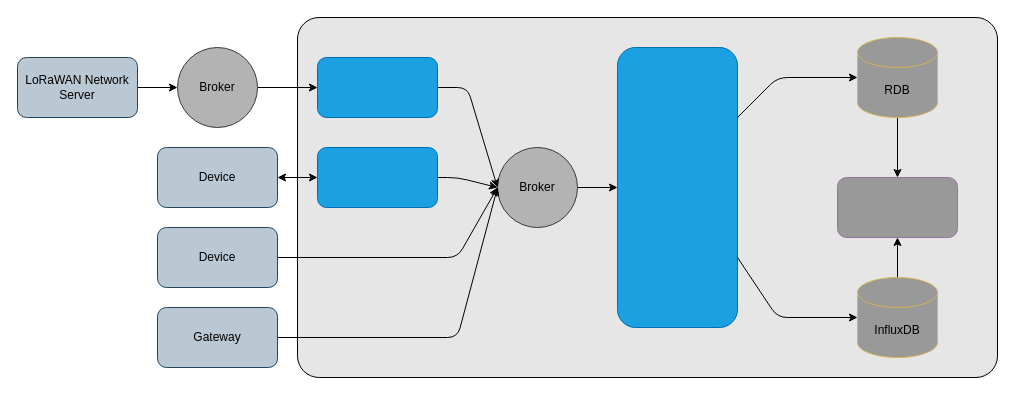
Some shapes in this 1015 by 395 pixel diagram are drawn without their labels. Here are the shapes that lost their labels. From the top down, the box of each, then its label:
(316, 56, 438, 118): MQTT to MQTT Agent
(316, 146, 438, 208): MBTCP to MQTT Agent
(616, 46, 738, 328): Data Processing
(836, 176, 958, 238): Grafana
